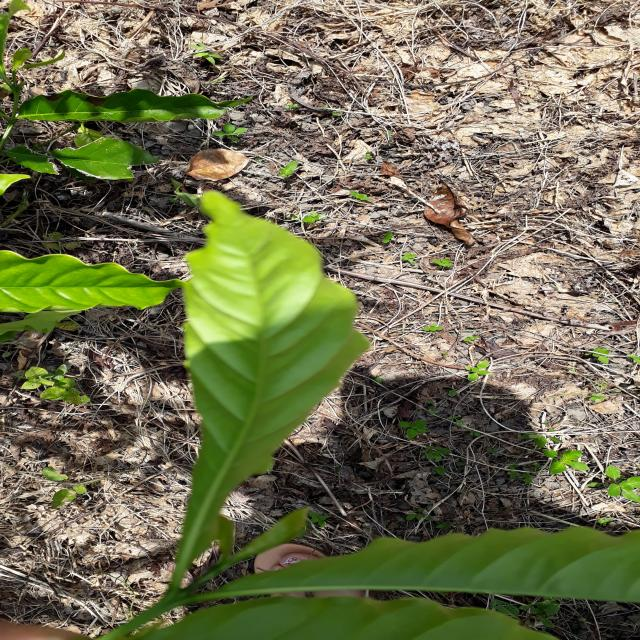Sanas: (172, 190, 369, 594)
